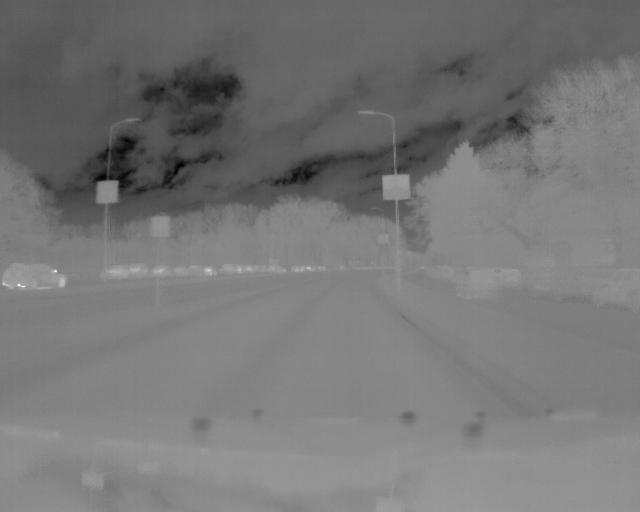car: (1, 261, 69, 296)
